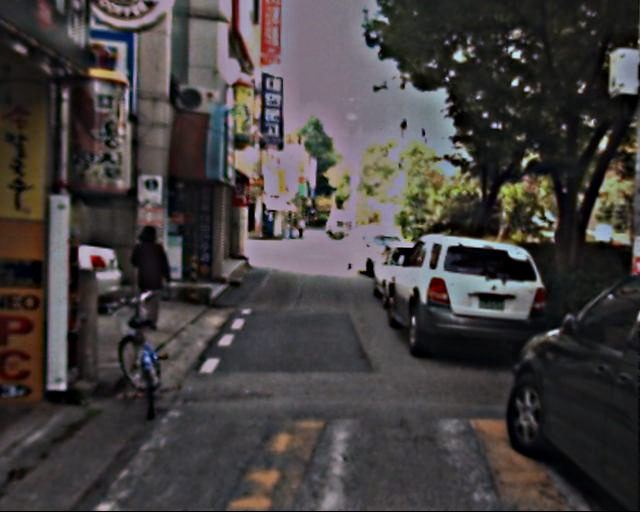person: (128, 222, 180, 332)
